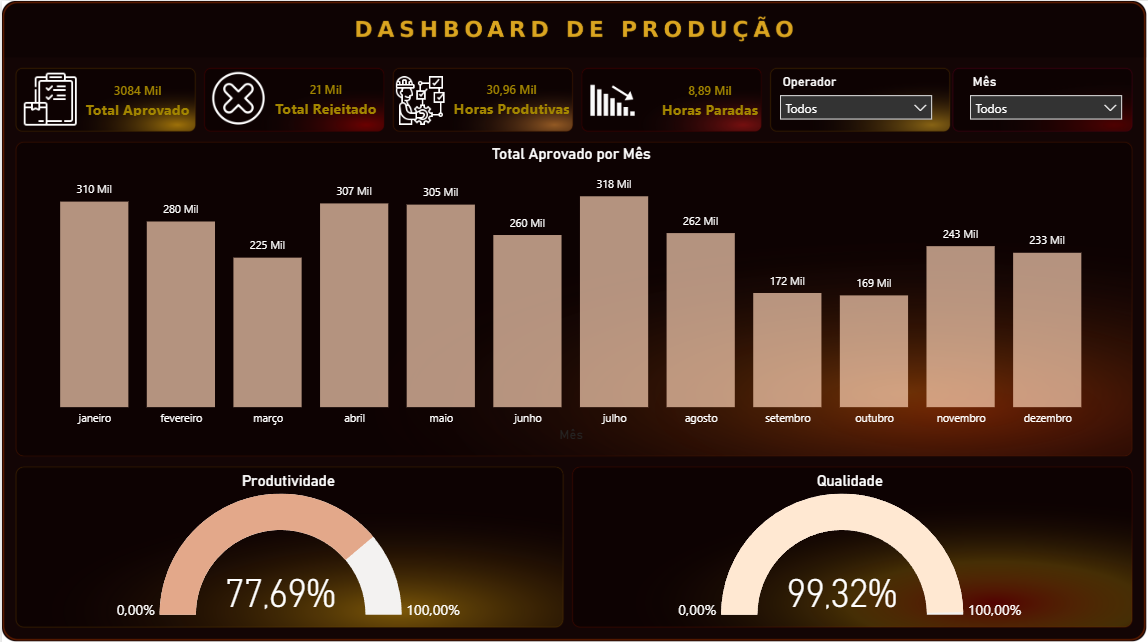

Layout of this report page (visuals, bound fields, positions):
{"tool":"powerbi","page":{"name":"Página 1","canvas":[1280,720],"ordinal":0},"visuals":[{"type":"cardVisual","fields":{"Data":["BaseProdução.Total Aprovado"]},"box":[57.1,77.1,188.6,68.6],"z":0},{"type":"cardVisual","fields":{"Data":["BaseProdução.Total Rejeitado"]},"box":[263.3,75.6,193.3,68.9],"z":1000},{"type":"cardVisual","fields":{"Data":["BaseProdução.Horas Produtivas"]},"box":[472.2,75.6,188.9,68.9],"z":2000},{"type":"cardVisual","fields":{"Data":["BaseProdução.HORAS Paradas"]},"box":[691.1,76.7,191.1,68.9],"z":3000},{"type":"columnChart","fields":{"Category":["BaseProdução.Data Inicio.Variation.Hierarquia de datas.Mês"],"Y":["BaseProdução.Total Aprovado"]},"box":[21.4,160,1222.9,334.3],"z":4000},{"type":"gauge","fields":{"Y":["BaseProdução.Produtividade"]},"box":[21.4,522.9,594.3,168.6],"z":5000},{"type":"gauge","fields":{"Y":["BaseProdução.Qualidade"]},"box":[640,522.9,604.3,168.6],"z":6000},{"type":"slicer","fields":{"Values":["BaseProdução.Operador"]},"box":[854.3,77.1,188.6,67.1],"z":7000},{"type":"slicer","fields":{"Values":["BaseProdução.Data Inicio.Variation.Hierarquia de datas.Mês"]},"box":[1065.7,77.1,188.6,67.1],"z":8000},{"type":"image","box":[21,76,65,67],"z":8001},{"type":"image","box":[232.2,75.6,61.1,65.6],"z":8002},{"type":"image","box":[436.7,75.6,55.6,70],"z":8003},{"type":"image","box":[648.9,78.9,58.9,63.3],"z":8004}]}

Visuals, with their boxes in screenshot pixels (x1, y1, x2, y2), scaled from the page's 1280x720 canvas onto the 1148x642 screenshot:
cardVisual - BaseProdução.Total Aprovado: x1=51 y1=69 x2=220 y2=130
cardVisual - BaseProdução.Total Rejeitado: x1=236 y1=67 x2=410 y2=129
cardVisual - BaseProdução.Horas Produtivas: x1=424 y1=67 x2=593 y2=129
cardVisual - BaseProdução.HORAS Paradas: x1=620 y1=68 x2=791 y2=130
columnChart - BaseProdução.Data Inicio.Variation.Hierarquia de datas.Mês x BaseProdução.Total Aprovado: x1=19 y1=143 x2=1116 y2=441
gauge - BaseProdução.Produtividade: x1=19 y1=466 x2=552 y2=617
gauge - BaseProdução.Qualidade: x1=574 y1=466 x2=1116 y2=617
slicer - BaseProdução.Operador: x1=766 y1=69 x2=935 y2=129
slicer - BaseProdução.Data Inicio.Variation.Hierarquia de datas.Mês: x1=956 y1=69 x2=1125 y2=129
image: x1=19 y1=68 x2=77 y2=128
image: x1=208 y1=67 x2=263 y2=126
image: x1=392 y1=67 x2=442 y2=130
image: x1=582 y1=70 x2=635 y2=127
